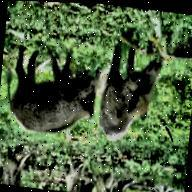boar: (0, 39, 106, 141), (96, 40, 169, 153)
